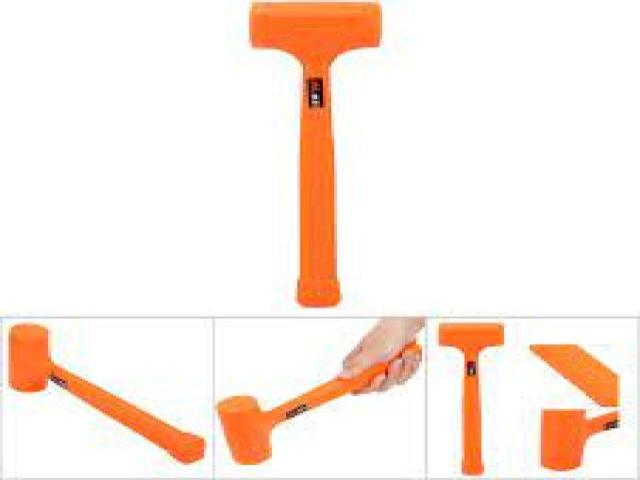hammer: (248, 0, 379, 305), (6, 322, 206, 464), (213, 342, 424, 463), (437, 322, 503, 475), (542, 400, 640, 469)
